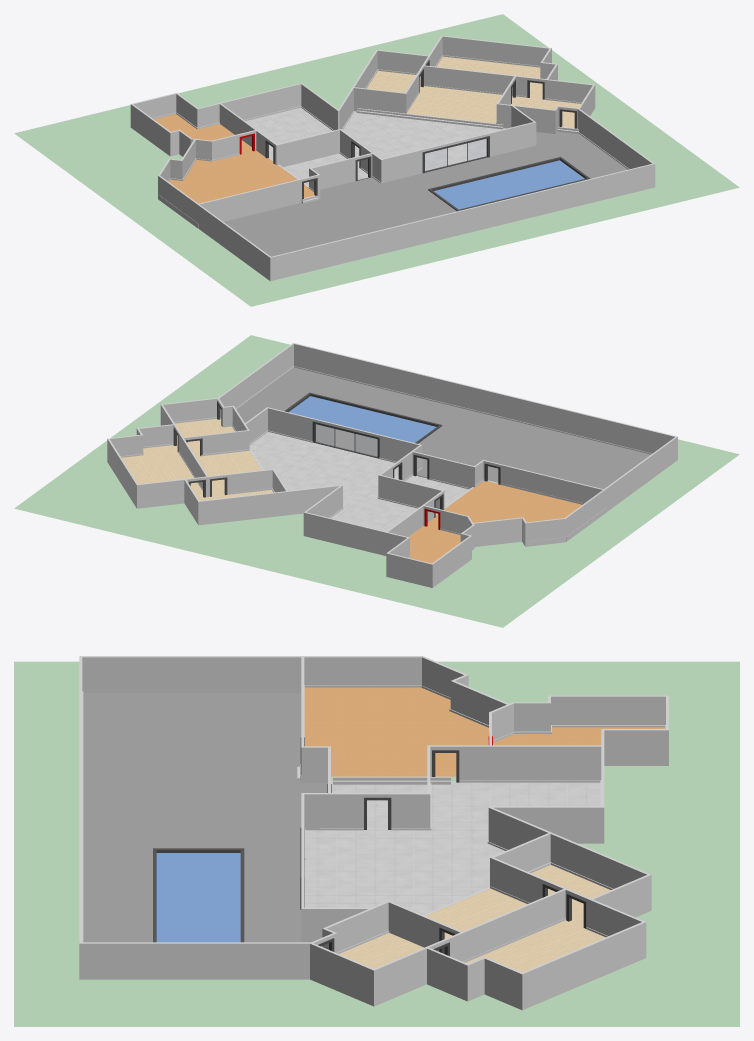
The model's file is Villa_14.fbx.
3 renders of one model, top to bottom at view 1: azimuth 30°, elevation 25°; view 2: azimuth 150°, elevation 25°; view 3: azimuth 270°, elevation 25°, orthographic. The views are drawn at different scales.
Visible parts, largest first — view 1: polySurface244, polySurface243, new_wall_01, polySurface242, polySurface241, polySurface240, PoolWater, new_wall_23, new_wall_30, new_wall_13, new_wall_08, new_wall_26 (+17 smaller); view 2: polySurface244, polySurface243, new_wall_01, polySurface242, polySurface240, polySurface241, new_wall_11, PoolWater, new_wall_23, new_wall_13, new_wall_30, new_wall_02 (+22 smaller); view 3: polySurface244, polySurface243, polySurface242, polySurface240, new_wall_23, new_wall_02, polySurface241, PoolWater, new_wall_35, new_wall_08, new_wall_11, new_wall_26 (+24 smaller).
Boxes of the visible parts, box(x1,y1,x2,y2) form: polySurface244: box(14, 14, 739, 306); polySurface243: box(224, 131, 627, 256); new_wall_01: box(269, 163, 655, 281); polySurface242: box(245, 107, 505, 185); polySurface241: box(367, 56, 580, 128); polySurface240: box(154, 114, 314, 203); PoolWater: box(434, 160, 584, 209); new_wall_23: box(158, 175, 270, 279); new_wall_30: box(197, 179, 300, 222); new_wall_13: box(197, 83, 301, 127); new_wall_08: box(441, 35, 551, 65); new_wall_26: box(422, 65, 526, 95); polySurface244: box(14, 335, 739, 627); polySurface243: box(236, 367, 650, 489); new_wall_01: box(292, 343, 677, 460); polySurface242: box(249, 432, 468, 531); polySurface240: box(408, 481, 581, 563); polySurface241: box(121, 419, 273, 500); new_wall_11: box(198, 485, 340, 524); PoolWater: box(289, 396, 436, 442); new_wall_23: box(565, 437, 676, 541); new_wall_13: box(303, 512, 408, 555); new_wall_30: box(502, 464, 605, 508); new_wall_02: box(218, 343, 293, 418); polySurface244: box(14, 661, 739, 1026); polySurface243: box(83, 693, 327, 946); polySurface242: box(304, 781, 600, 914); polySurface240: box(304, 687, 665, 776); new_wall_23: box(79, 656, 422, 692); new_wall_02: box(79, 942, 311, 979); polySurface241: box(339, 865, 610, 972); PoolWater: box(156, 853, 240, 942); new_wall_35: box(462, 745, 603, 780); new_wall_08: box(520, 922, 646, 1009); new_wall_11: box(488, 807, 649, 888); new_wall_26: box(450, 888, 566, 961).
Bounding box in the file's own units: 69.57 × 4.77 × 58.41.
Materials: 11 (3 with a texture image).
